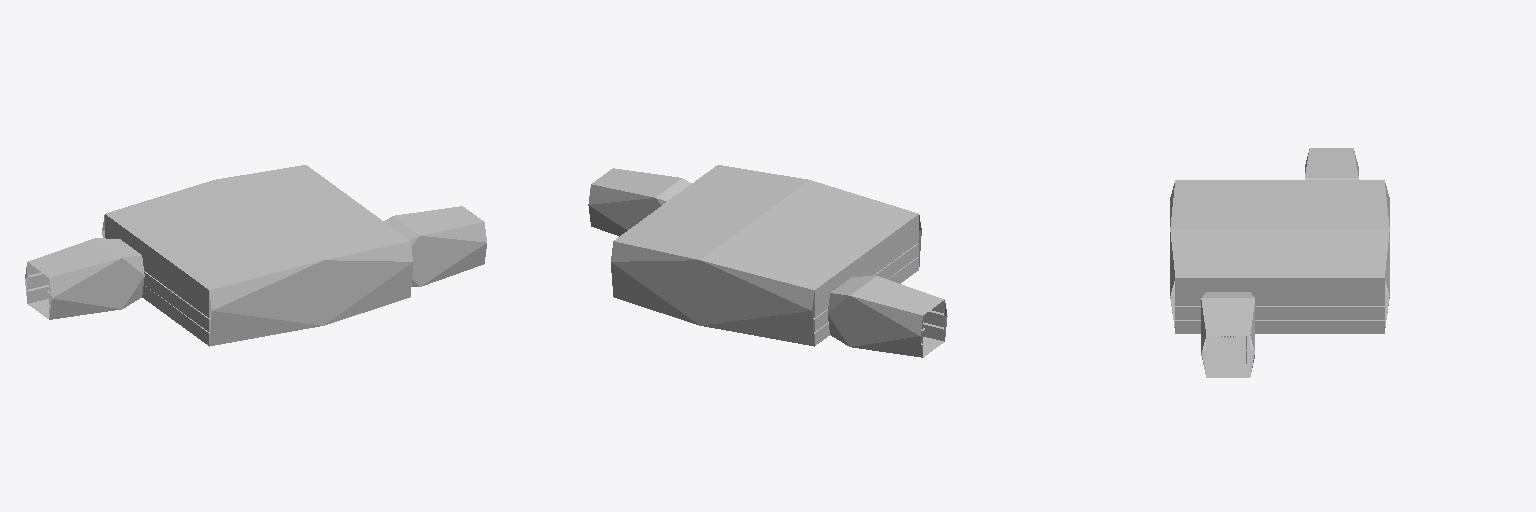
Rendered from RoomL2.obj.
3 views of the same model, side by side, from view 1: azimuth 30°, elevation 25°; view 2: azimuth 150°, elevation 25°; view 3: azimuth 270°, elevation 25° (orthographic).
Visible parts, largest first — view 1: Cube.006_Cube.014; view 2: Cube.006_Cube.014; view 3: Cube.006_Cube.014.
Boxes of the visible parts, <box> form: Cube.006_Cube.014: <box>25,165,486,346</box>; Cube.006_Cube.014: <box>588,165,947,357</box>; Cube.006_Cube.014: <box>1170,148,1389,377</box>.
Size of the model in its own units: 85.76 by 14 by 42.5.